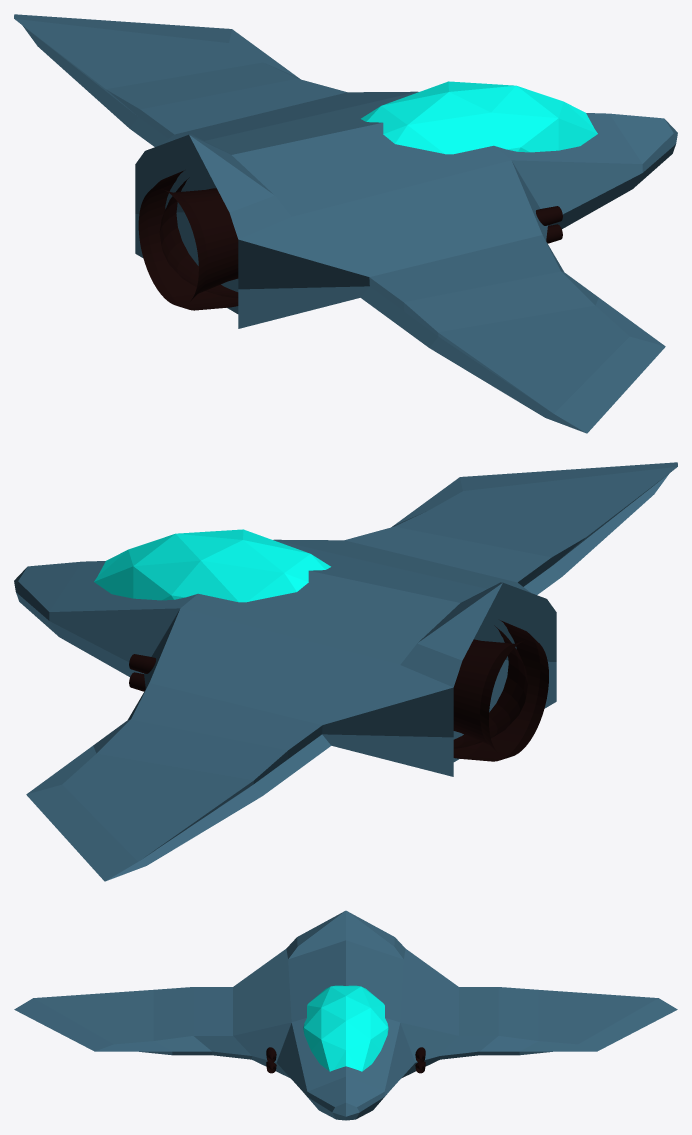
Rendered from SmallShip.fbx.
The picture shows the model from 3 angles, top to bottom: view 1: azimuth 30°, elevation 25°; view 2: azimuth 150°, elevation 25°; view 3: azimuth 270°, elevation 25°; orthographic projection. The views are drawn at different scales.
Parts seen in each view (by area): view 1: Ship Body, Glass, Jet Engine, Guns; view 2: Ship Body, Glass, Jet Engine, Guns; view 3: Ship Body, Glass, Guns.
Boxes of the visible parts, x1,y1,x2,y2 form: Ship Body: (14,14,677,433); Glass: (361,81,597,154); Jet Engine: (138,170,238,310); Guns: (536,206,562,243); Ship Body: (14,462,677,881); Glass: (94,529,330,602); Jet Engine: (453,620,548,761); Guns: (129,654,155,691); Ship Body: (14,910,677,1120); Glass: (303,985,388,1071); Guns: (266,1047,425,1073).
Size of the model in its own units: 318 by 117 by 619.
